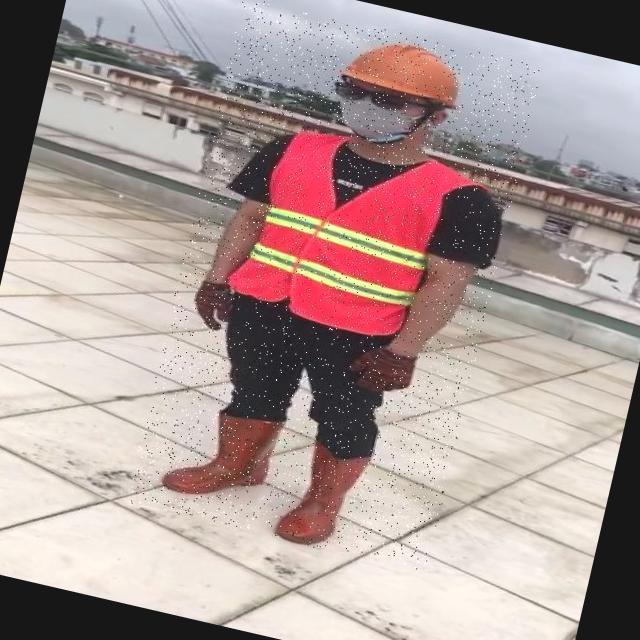boots: (157, 395, 286, 513), (270, 440, 372, 557)
gloves: (338, 318, 434, 404), (176, 266, 248, 344)
helmet: (336, 27, 478, 113)
vest: (227, 118, 454, 344)
